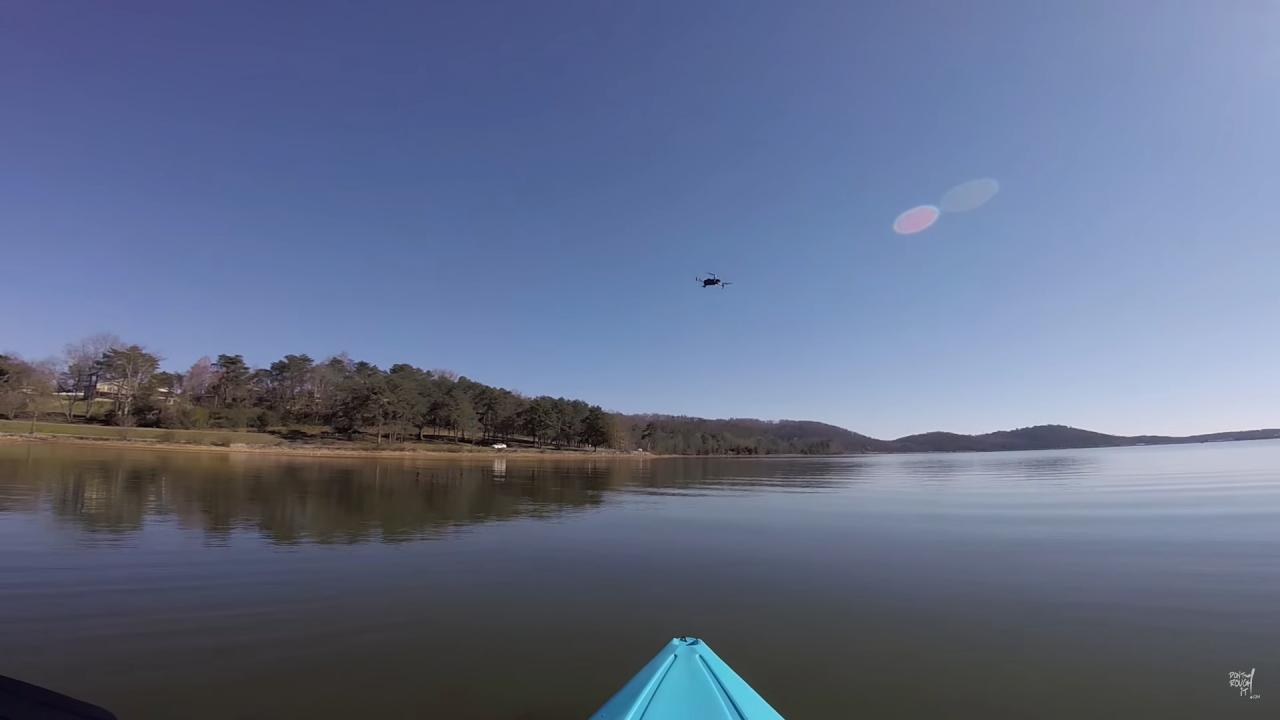Drone: (685, 262, 740, 302)
